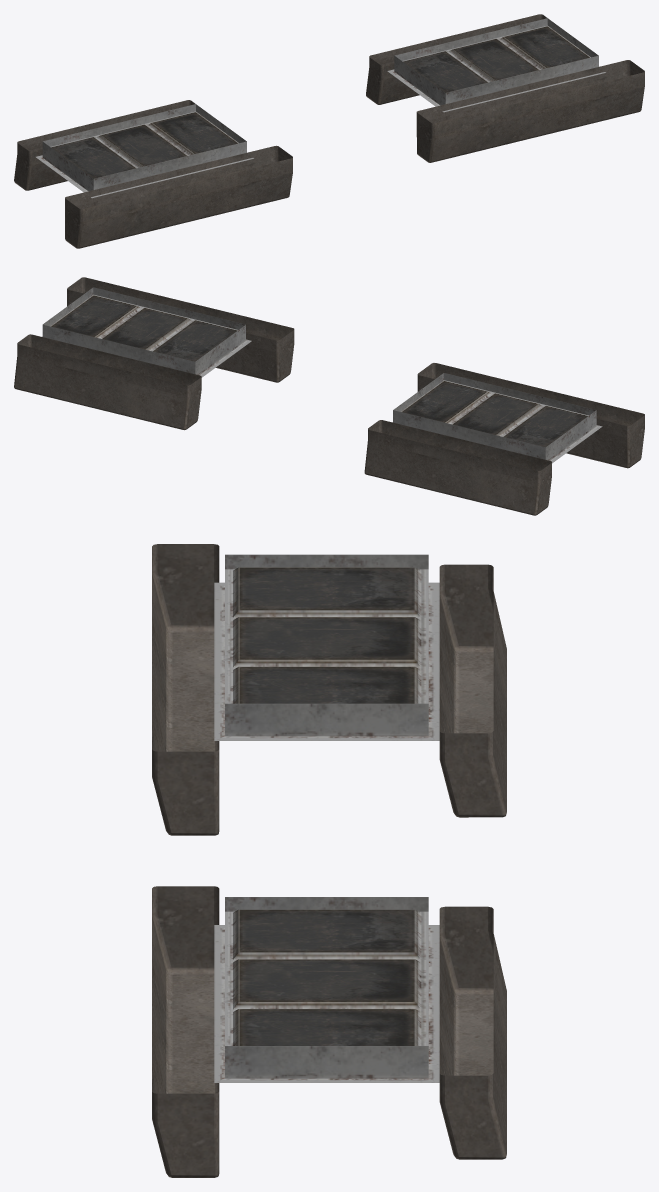
Rendered from window_centered_double_04.gltf.
The picture shows the model from 3 angles, top to bottom: view 1: azimuth 30°, elevation 25°; view 2: azimuth 150°, elevation 25°; view 3: azimuth 270°, elevation 25°; orthographic projection. The views are drawn at different scales.
Visible parts, largest first — view 1: window_centered_double_04; view 2: window_centered_double_04; view 3: window_centered_double_04.
Boxes of the visible parts, x1,y1,x2,y2 form: window_centered_double_04: (14,14,644,248); window_centered_double_04: (14,277,644,515); window_centered_double_04: (152,544,506,1177).
Bounding box in the file's own units: 2.41 × 0.2167 × 0.6572.
2 materials, 2 textured.
